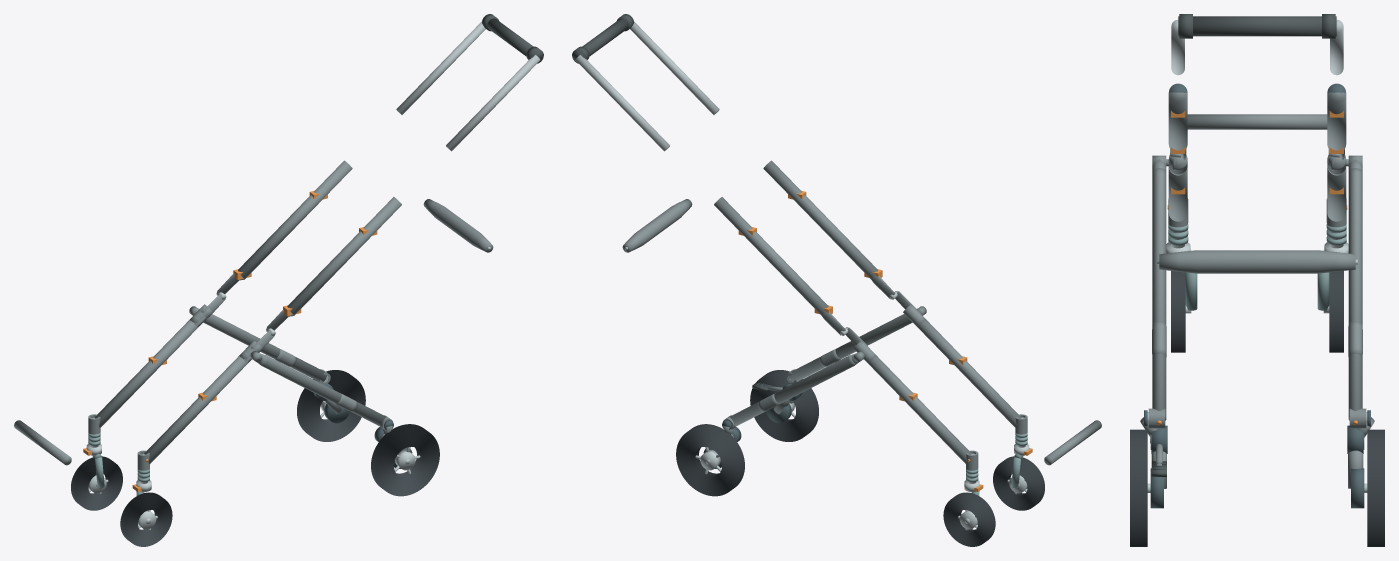
File: w380_state5.glb
3 renders of one model, left to right at view 1: azimuth 30°, elevation 25°; view 2: azimuth 150°, elevation 25°; view 3: azimuth 270°, elevation 25°, orthographic. The views are drawn at different scales.
Visible parts, largest first — view 1: RL_tire.002, RR_tire.002, FL_tire.002, main_upper_-1.004, main_upper_1.004, FR_tire.002, main_lower_1.004, main_lower_-1.004, V46_rear_leg_-1.004, V46_rear_leg_1.004, handle_slider_-1.002, V46_rearbar.004 (+3 smaller); view 2: RR_tire.002, RL_tire.002, FR_tire.002, main_upper_1.004, main_upper_-1.004, FL_tire.002, main_lower_-1.004, main_lower_1.004, V46_rear_leg_1.004, V46_rear_leg_-1.004, handle_slider_1.002, V46_rearbar.004 (+3 smaller); view 3: V46_rearbar.004, V46_rear_leg_1.004, V46_rear_leg_-1.004, round_handle.002, front_fixed_round_tube.002, RL_tire.002, RR_tire.002, FL_tire.002, FR_tire.002, main_upper_1.004, main_upper_-1.004, main_lower_1.004 (+16 smaller).
Part boxes in pixels (x1,y1,x2,y2): RL_tire.002: [371, 424, 439, 496]; RR_tire.002: [297, 370, 365, 441]; FL_tire.002: [120, 492, 172, 546]; main_upper_-1.004: [287, 197, 401, 315]; main_upper_1.004: [238, 160, 352, 279]; FR_tire.002: [71, 456, 122, 510]; main_lower_1.004: [94, 316, 205, 427]; main_lower_-1.004: [144, 356, 250, 464]; V46_rear_leg_-1.004: [259, 355, 385, 426]; V46_rear_leg_1.004: [203, 314, 326, 381]; handle_slider_-1.002: [446, 55, 540, 151]; V46_rearbar.004: [423, 199, 493, 252]; RR_tire.002: [676, 424, 744, 496]; RL_tire.002: [750, 370, 818, 441]; FR_tire.002: [943, 492, 995, 546]; main_upper_1.004: [714, 197, 828, 315]; main_upper_-1.004: [763, 160, 877, 279]; FL_tire.002: [993, 456, 1044, 510]; main_lower_-1.004: [910, 316, 1021, 427]; main_lower_1.004: [865, 356, 971, 464]; V46_rear_leg_1.004: [730, 355, 856, 426]; V46_rear_leg_-1.004: [789, 314, 912, 381]; handle_slider_1.002: [575, 55, 669, 151]; V46_rearbar.004: [622, 199, 692, 252]; V46_rearbar.004: [1159, 250, 1355, 273]; V46_rear_leg_1.004: [1348, 168, 1362, 420]; V46_rear_leg_-1.004: [1152, 168, 1166, 420]; round_handle.002: [1178, 16, 1336, 36]; front_fixed_round_tube.002: [1187, 114, 1327, 129]; RL_tire.002: [1130, 429, 1147, 546]; RR_tire.002: [1367, 429, 1384, 546]; FL_tire.002: [1171, 271, 1185, 352]; FR_tire.002: [1329, 271, 1343, 352]; main_upper_1.004: [1327, 84, 1346, 150]; main_upper_-1.004: [1168, 84, 1187, 150]; main_lower_1.004: [1327, 166, 1346, 221].
Size of the model in its own units: 1.51 by 1.2 by 0.434.
